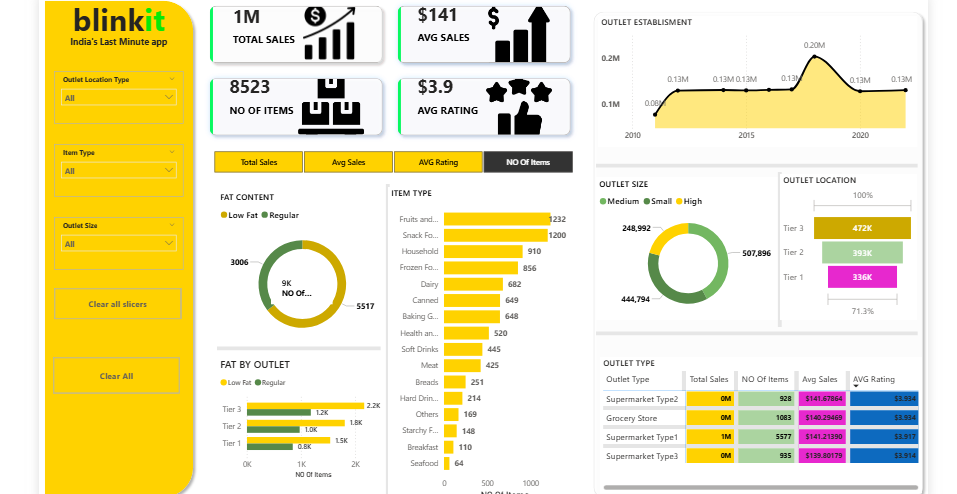

Layout of this report page (visuals, bound fields, positions):
{"tool":"powerbi","page":{"name":"Blinkit App","canvas":[1400,800],"ordinal":0},"visuals":[{"type":"shape","box":[0,0,251.7,800],"z":0},{"type":"textbox","box":[0,0,251.7,117.6],"z":1000},{"type":"textbox","box":[23.9,58.8,203.9,40.4],"z":2000},{"type":"cardVisual","fields":{"Data":["BlinkIT Grocery Data.Total Sales","BlinkIT Grocery Data.Avg Sales","BlinkIT Grocery Data.NO Of Items","BlinkIT Grocery Data.AVG Rating"]},"box":[252.3,0,602.3,239.3],"z":3000},{"type":"shape","box":[864.9,17,535.9,783],"z":4000},{"type":"slicer","fields":{"Values":["Metrics 2.Metrics"]},"box":[250.7,239.3,613.7,47.2],"z":5000},{"type":"donutChart","title":"FAT CONTENT","fields":{"Y":["BlinkIT Grocery Data.NO Of Items"],"Category":["BlinkIT Grocery Data.Item Fat Content"]},"box":[281.1,308.9,268.7,247.1],"z":6000},{"type":"cardVisual","fields":{"Data":["BlinkIT Grocery Data.NO Of Items"]},"box":[366,432.4,97.3,54.1],"z":7000},{"type":"clusteredBarChart","title":"FAT BY OUTLET","fields":{"Y":["BlinkIT Grocery Data.NO Of Items"],"Series":["BlinkIT Grocery Data.Item Fat Content"],"Category":["BlinkIT Grocery Data.Outlet Location Type"]},"box":[281.1,569.9,268.7,196.1],"z":8000},{"type":"shape","box":[281.1,508.1,257.9,95.8],"z":9000},{"type":"shape","box":[492.7,298.1,112.7,501.9],"z":10000},{"type":"barChart","title":"ITEM TYPE","fields":{"Y":["BlinkIT Grocery Data.NO Of Items"],"Category":["BlinkIT Grocery Data.Item Type"]},"box":[549,302,298,498],"z":11000},{"type":"lineChart","title":"OUTLET ESTABLISMENT","fields":{"Category":["BlinkIT Grocery Data.Outlet Establishment Year"],"Y":["BlinkIT Grocery Data.Total Sales"]},"box":[880.1,33.1,503.4,205.8],"z":12000},{"type":"shape","box":[877.2,484.9,506.6,95.8],"z":13000},{"type":"donutChart","title":"OUTLET SIZE","fields":{"Y":["BlinkIT Grocery Data.Total Sales"],"Category":["BlinkIT Grocery Data.Outlet Size"]},"box":[877.2,287.3,290.3,225.5],"z":14000},{"type":"shape","box":[1110.4,278,112.7,244],"z":15000},{"type":"funnel","title":"OUTLET LOCATION","fields":{"Y":["BlinkIT Grocery Data.Total Sales"],"Category":["BlinkIT Grocery Data.Outlet Location Type"]},"box":[1167.6,282.6,216.2,230.1],"z":16000},{"type":"shape","box":[884.9,532.8,491.1,95.8],"z":17000},{"type":"pivotTable","title":"OUTLET TYPE","fields":{"Rows":["BlinkIT Grocery Data.Outlet Type"],"Values":["BlinkIT Grocery Data.Total Sales","BlinkIT Grocery Data.NO Of Items","BlinkIT Grocery Data.Avg Sales","BlinkIT Grocery Data.AVG Rating"]},"box":[884.1,570.1,506.5,215],"z":18000},{"type":"shape","box":[877.2,236.3,506.6,64.9],"z":19000},{"type":"slicer","fields":{"Values":["BlinkIT Grocery Data.Outlet Location Type"]},"box":[23.2,118.9,203.9,83.4],"z":20000},{"type":"slicer","fields":{"Values":["BlinkIT Grocery Data.Item Type"]},"box":[23.2,234.7,203.9,83.4],"z":21000},{"type":"slicer","fields":{"Values":["BlinkIT Grocery Data.Outlet Size"]},"box":[23.2,349,203.9,83.4],"z":22000},{"type":"actionButton","box":[23.2,461.8,200.8,49.4],"z":23000},{"type":"actionButton","box":[22.4,570.1,200,57.9],"z":24000}]}

Visuals, with their boxes on the page's 1400x800 design canvas (x1, y1, x2, y2). These are canvas units, not pixel positions in the 957x494 screenshot, which may show the page scaled, cropped or inside an application window:
shape: (left=0, top=0, right=252, bottom=800)
textbox: (left=0, top=0, right=252, bottom=118)
textbox: (left=24, top=59, right=228, bottom=99)
cardVisual - BlinkIT Grocery Data.Total Sales x BlinkIT Grocery Data.Avg Sales: (left=252, top=0, right=855, bottom=239)
shape: (left=865, top=17, right=1401, bottom=800)
slicer - Metrics 2.Metrics: (left=251, top=239, right=864, bottom=286)
"FAT CONTENT" donutChart: (left=281, top=309, right=550, bottom=556)
cardVisual - BlinkIT Grocery Data.NO Of Items: (left=366, top=432, right=463, bottom=486)
"FAT BY OUTLET" clusteredBarChart: (left=281, top=570, right=550, bottom=766)
shape: (left=281, top=508, right=539, bottom=604)
shape: (left=493, top=298, right=605, bottom=800)
"ITEM TYPE" barChart: (left=549, top=302, right=847, bottom=800)
"OUTLET ESTABLISMENT" lineChart: (left=880, top=33, right=1384, bottom=239)
shape: (left=877, top=485, right=1384, bottom=581)
"OUTLET SIZE" donutChart: (left=877, top=287, right=1168, bottom=513)
shape: (left=1110, top=278, right=1223, bottom=522)
"OUTLET LOCATION" funnel: (left=1168, top=283, right=1384, bottom=513)
shape: (left=885, top=533, right=1376, bottom=629)
"OUTLET TYPE" pivotTable: (left=884, top=570, right=1391, bottom=785)
shape: (left=877, top=236, right=1384, bottom=301)
slicer - BlinkIT Grocery Data.Outlet Location Type: (left=23, top=119, right=227, bottom=202)
slicer - BlinkIT Grocery Data.Item Type: (left=23, top=235, right=227, bottom=318)
slicer - BlinkIT Grocery Data.Outlet Size: (left=23, top=349, right=227, bottom=432)
actionButton: (left=23, top=462, right=224, bottom=511)
actionButton: (left=22, top=570, right=222, bottom=628)
